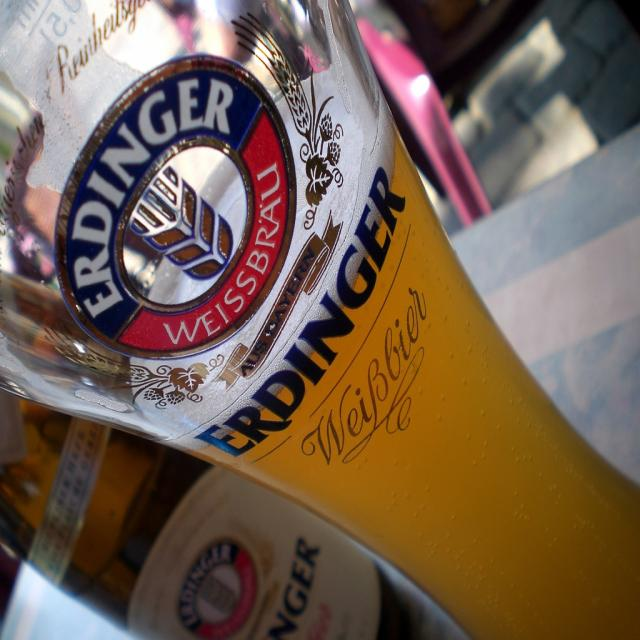erdinger: (36, 5, 417, 469)
